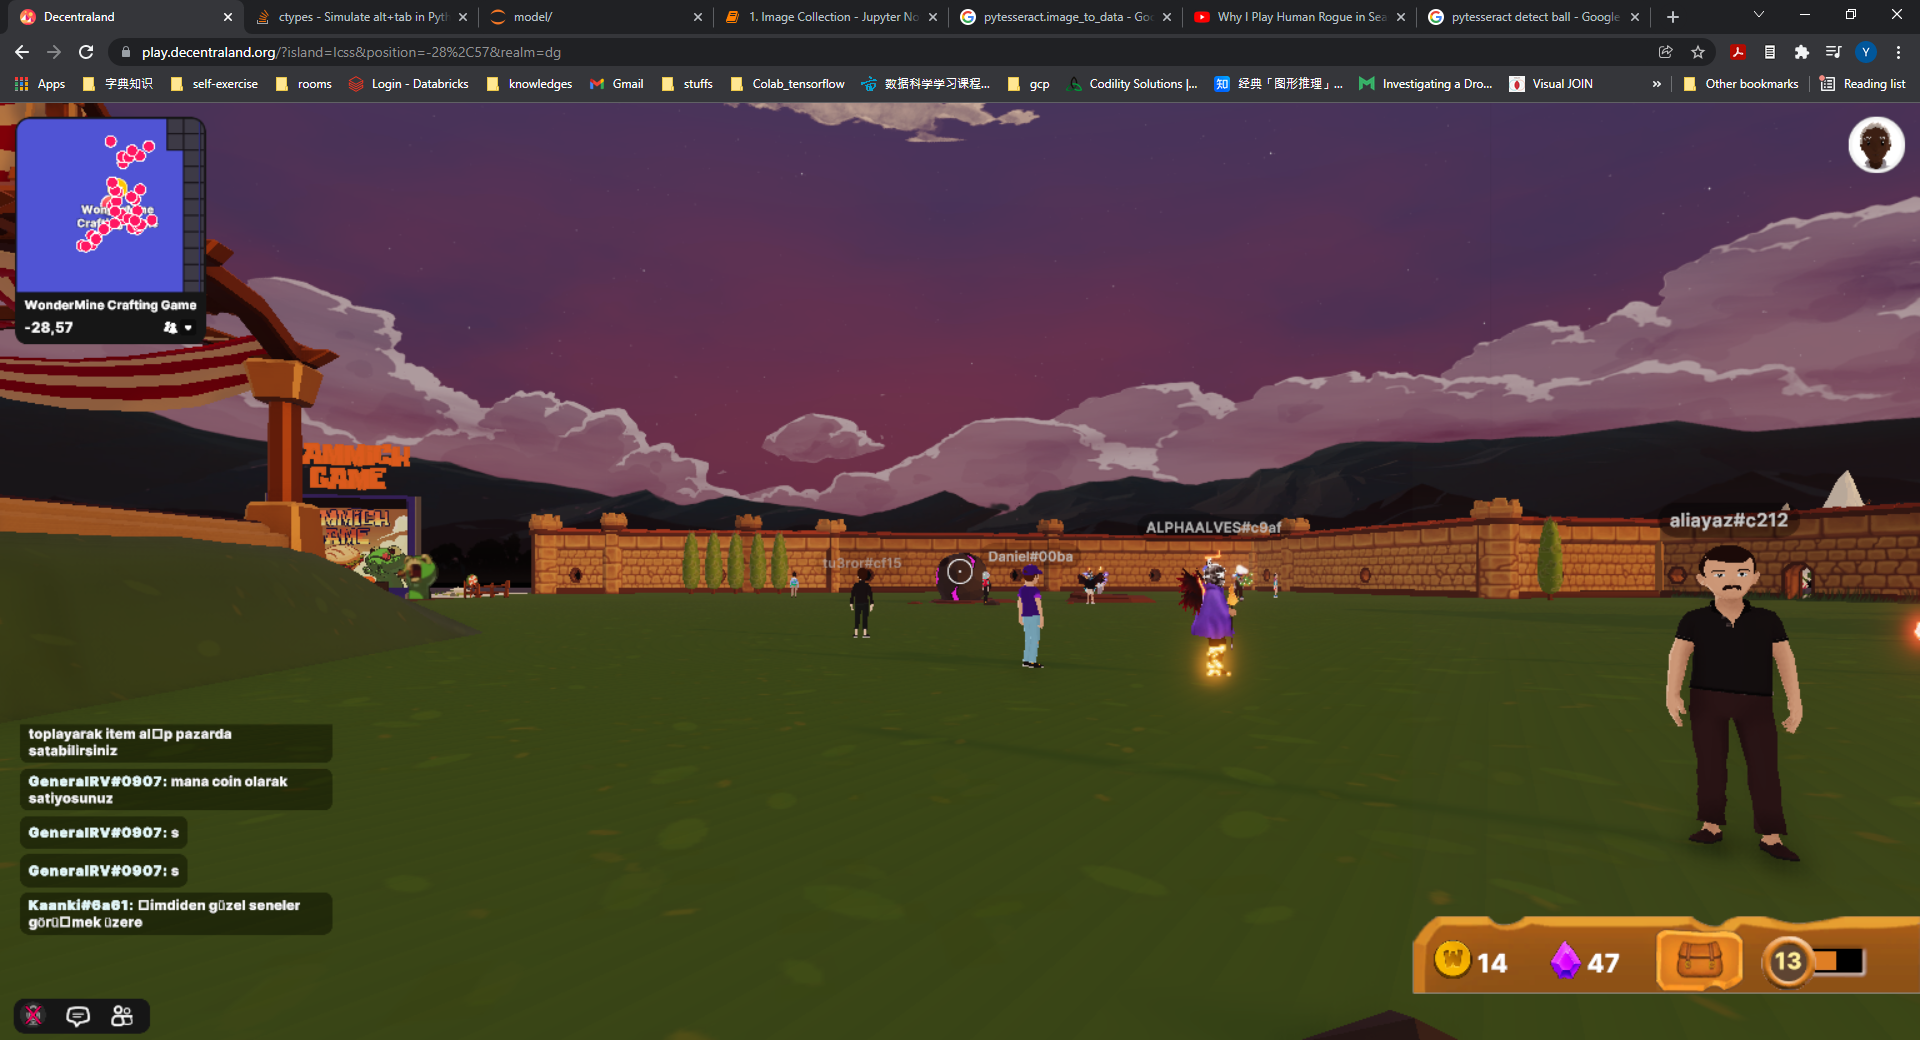black_ball: (909, 544, 1014, 621)
